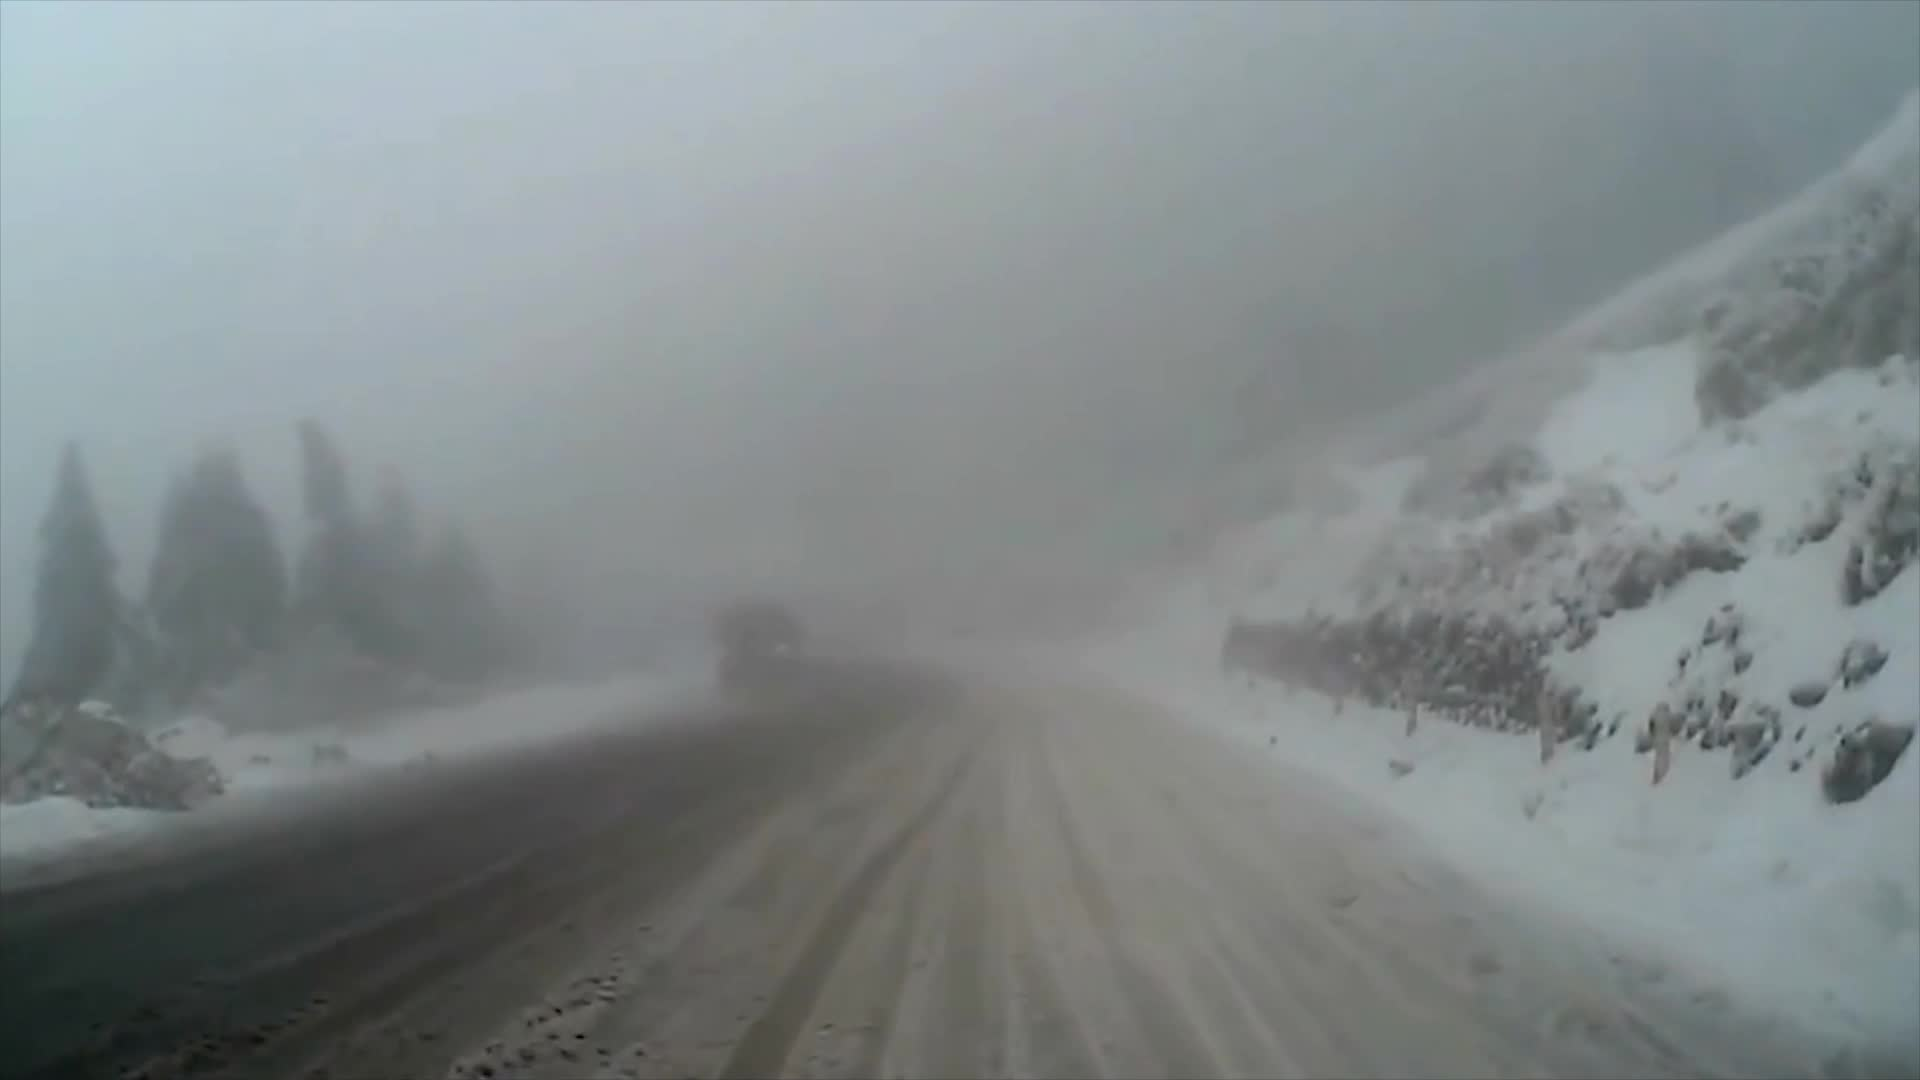vehicle: (709, 603, 806, 695)
